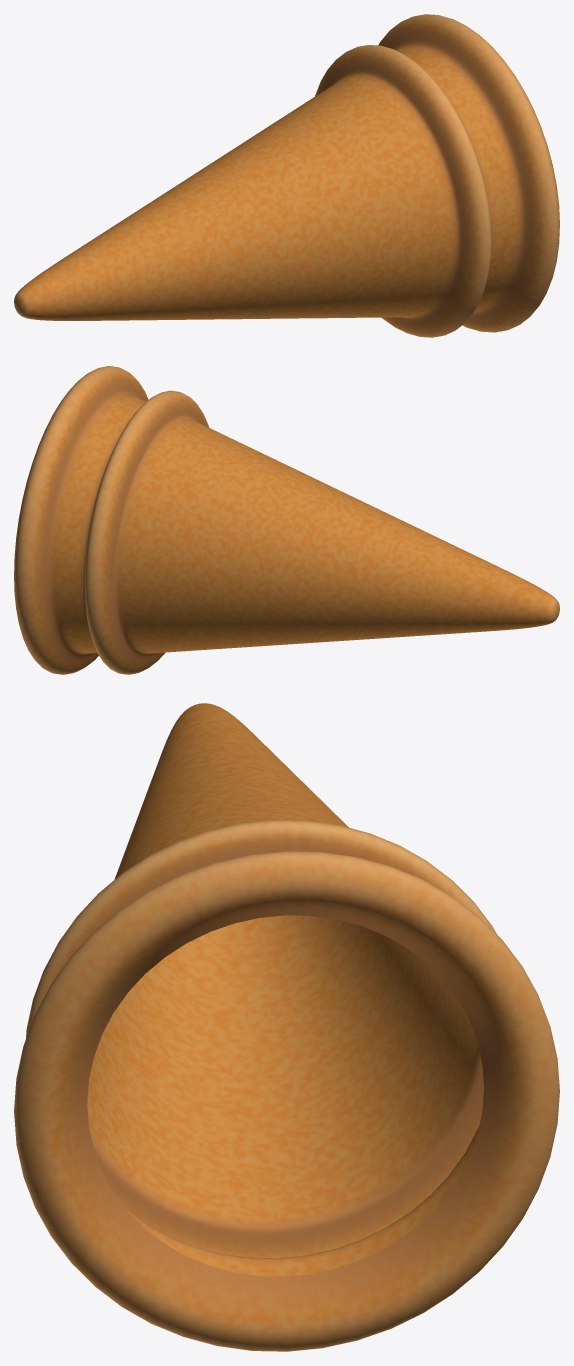
The picture shows the model from 3 angles, top to bottom: view 1: azimuth 30°, elevation 25°; view 2: azimuth 150°, elevation 25°; view 3: azimuth 270°, elevation 25°; orthographic projection. The views are drawn at different scales.
Visible parts, largest first — view 1: Cylinder.407; view 2: Cylinder.407; view 3: Cylinder.407.
Part boxes in pixels (<box>): Cylinder.407: <box>14,14,559,337</box>; Cylinder.407: <box>14,366,559,674</box>; Cylinder.407: <box>14,703,559,1351</box>.
Bounding box in the file's own units: 5.95 × 3.43 × 3.42.
1 material, 1 textured.
